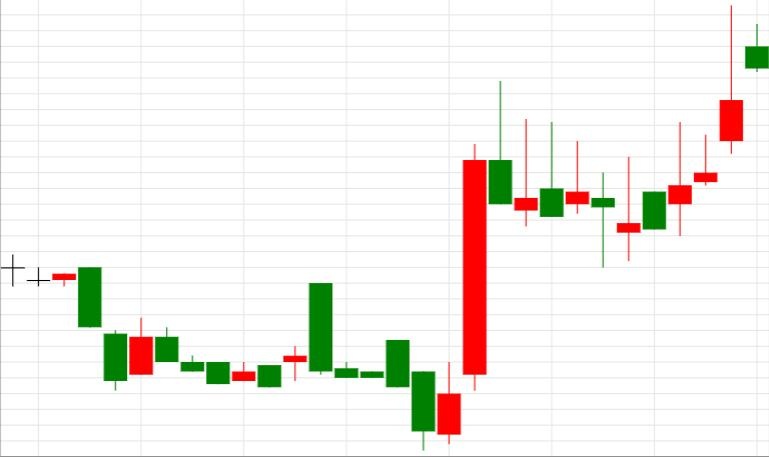shooting_star_fall: (616, 6, 744, 261)
